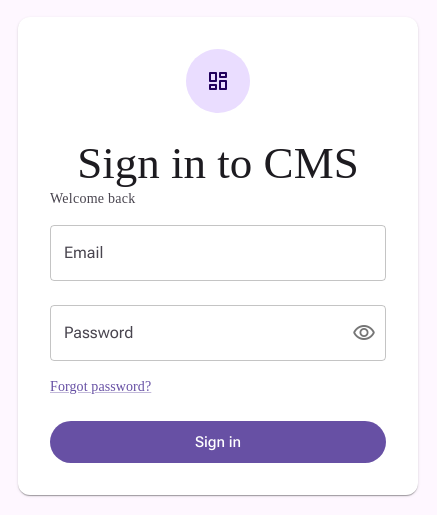
Scenario: LoginPage › disables submit and shows loading feedback while login is pending
This screenshot has width=437, height=515.
Type "editor@example.com" into the field labelled "Email". click: (218, 253)
box: [50,225,386,281]
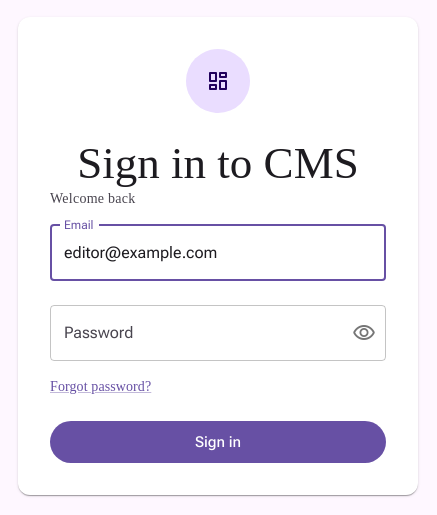
Type "CorrectPassword1" into the password field labelled "Password". click: (193, 333)
box: [50,305,336,361]
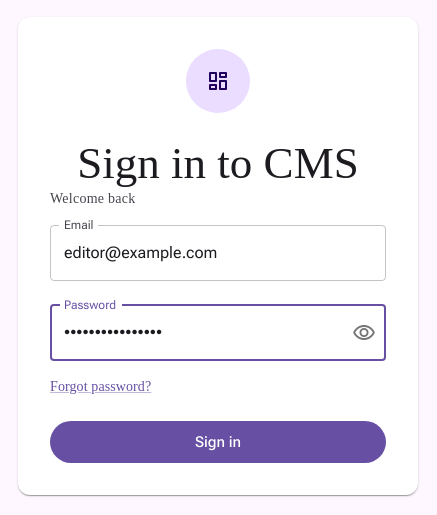
Click the button "Sign in". click: (218, 442)
box: [50,421,386,463]
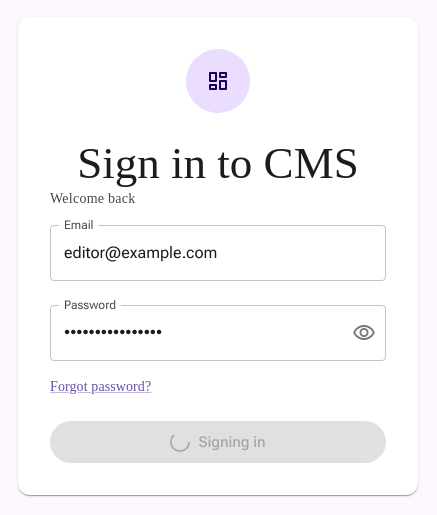
Now the button "Signing in" is disabled, box [50,421,386,463]
Now the progress indicator is shown, box [170,432,190,452]
